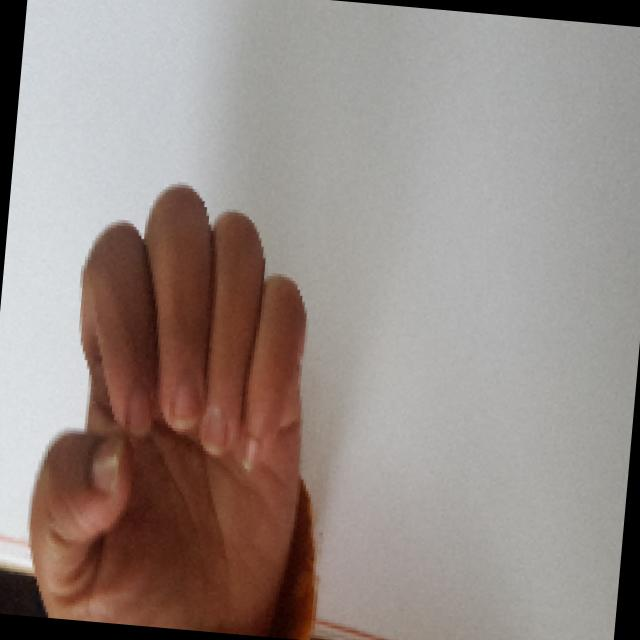Nail: (91, 437, 121, 493), (168, 384, 200, 429), (126, 388, 152, 436), (200, 410, 227, 455), (237, 436, 258, 470)
